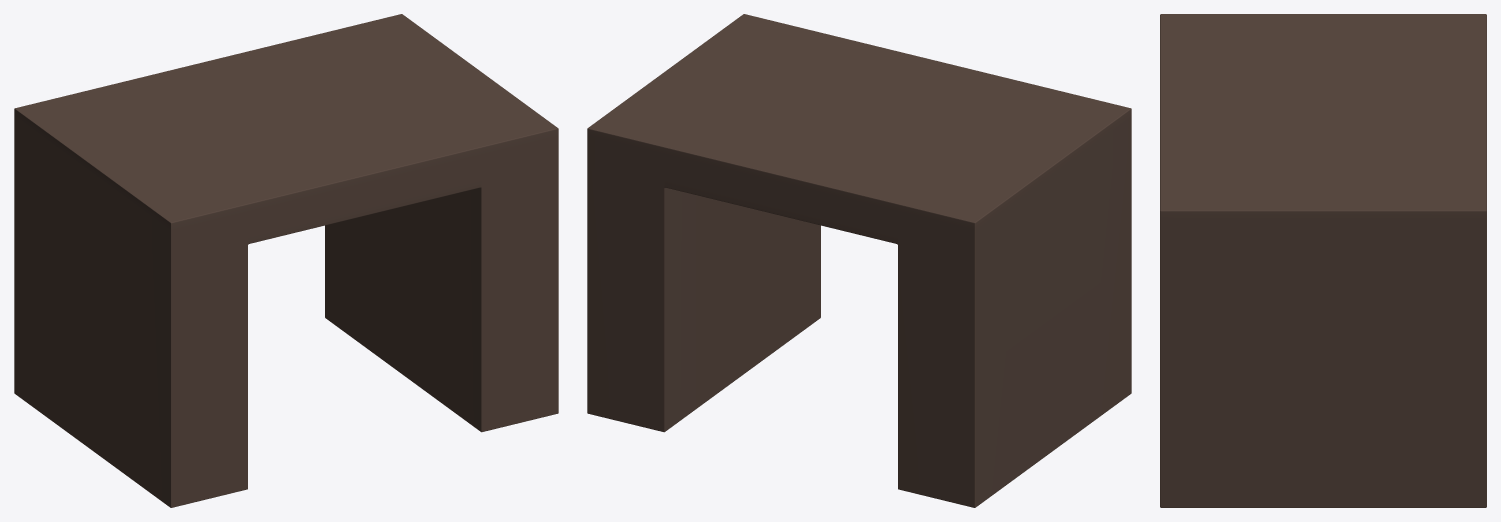
File: table.fbx
3 renders of one model, left to right at view 1: azimuth 30°, elevation 25°; view 2: azimuth 150°, elevation 25°; view 3: azimuth 270°, elevation 25°, orthographic. The views are drawn at different scales.
Visible parts, largest first — view 1: Table; view 2: Table; view 3: Table.
Part boxes in pixels (x1,y1,x2,y2): Table: (14, 14, 558, 507); Table: (587, 14, 1131, 507); Table: (1160, 14, 1486, 507).
Size of the model in its own units: 100 by 70.32 by 70.
